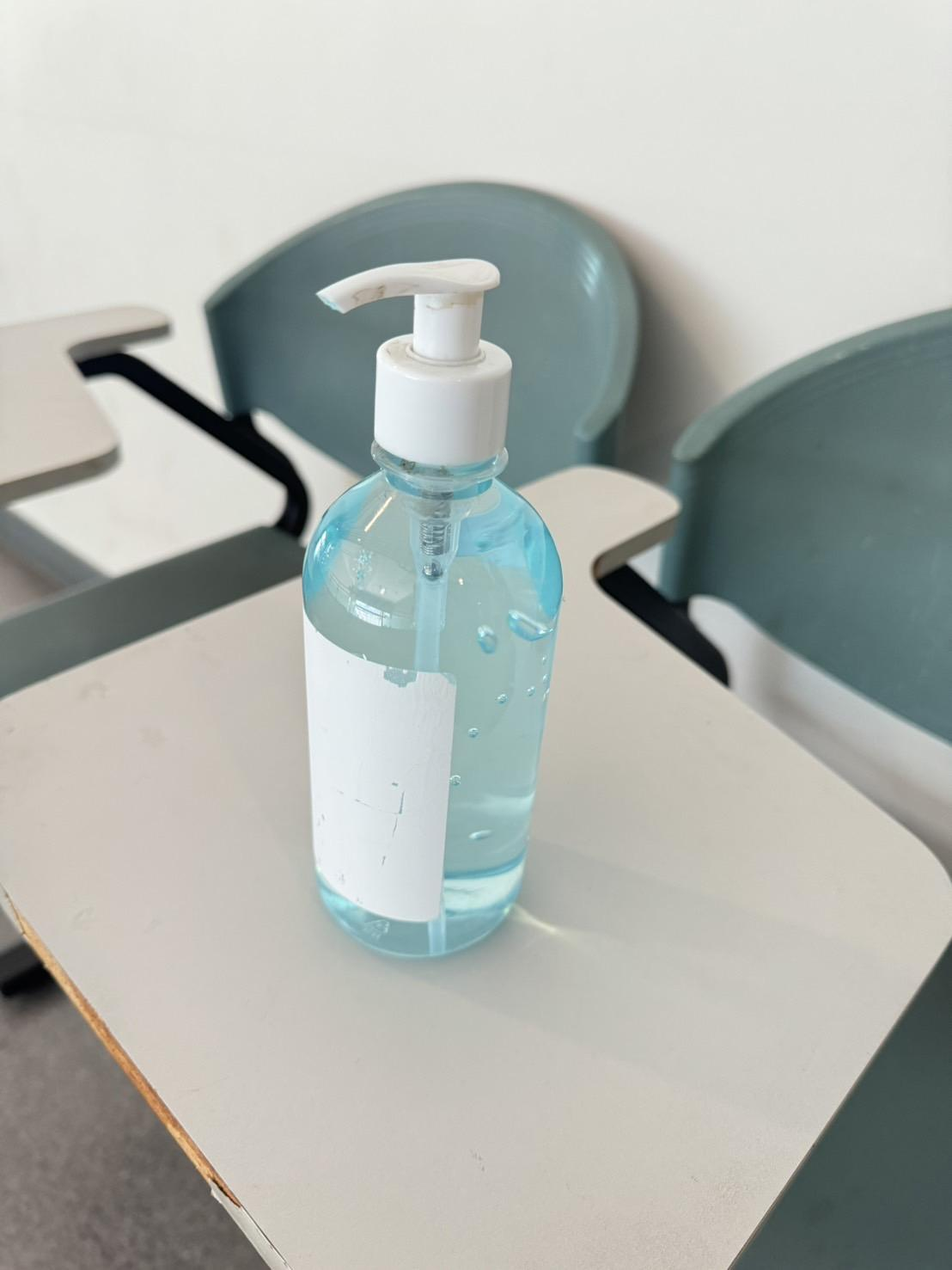Bottle: (302, 260, 562, 956)
